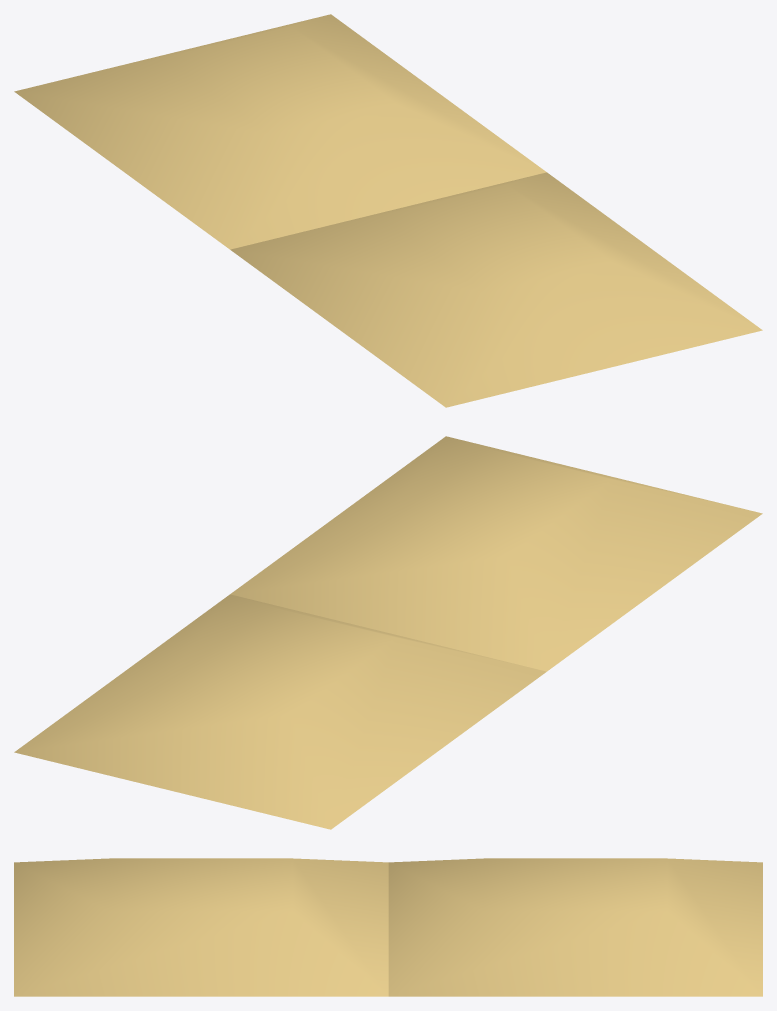
File: load_howo_dump_pellet.glb
3 renders of one model, top to bottom at view 1: azimuth 30°, elevation 25°; view 2: azimuth 150°, elevation 25°; view 3: azimuth 270°, elevation 25°, orthographic. The views are drawn at different scales.
Visible parts, largest first — view 1: load_howo_dump_pellet; view 2: load_howo_dump_pellet; view 3: load_howo_dump_pellet.
Boxes of the visible parts, left/top/right/bottom form: load_howo_dump_pellet: left=14, top=14, right=762, bottom=407; load_howo_dump_pellet: left=14, top=436, right=762, bottom=829; load_howo_dump_pellet: left=14, top=858, right=762, bottom=996.
Bounding box in the file's own units: 2.32 × 0.3581 × 5.48.
Materials: 1 (1 with a texture image).
